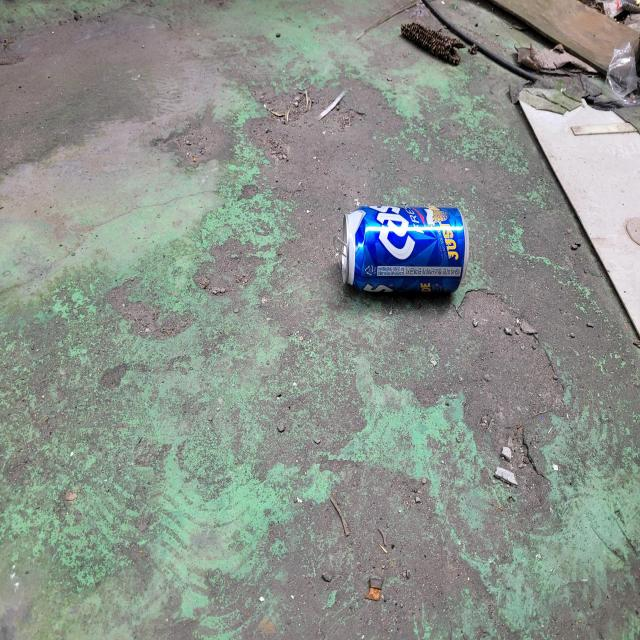can: (336, 205, 470, 292)
